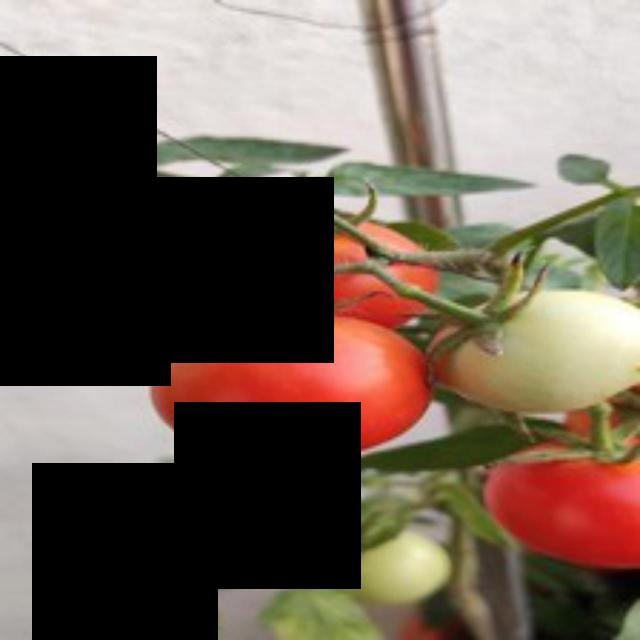tomato: (148, 313, 435, 457), (202, 208, 440, 342), (480, 408, 637, 577)
